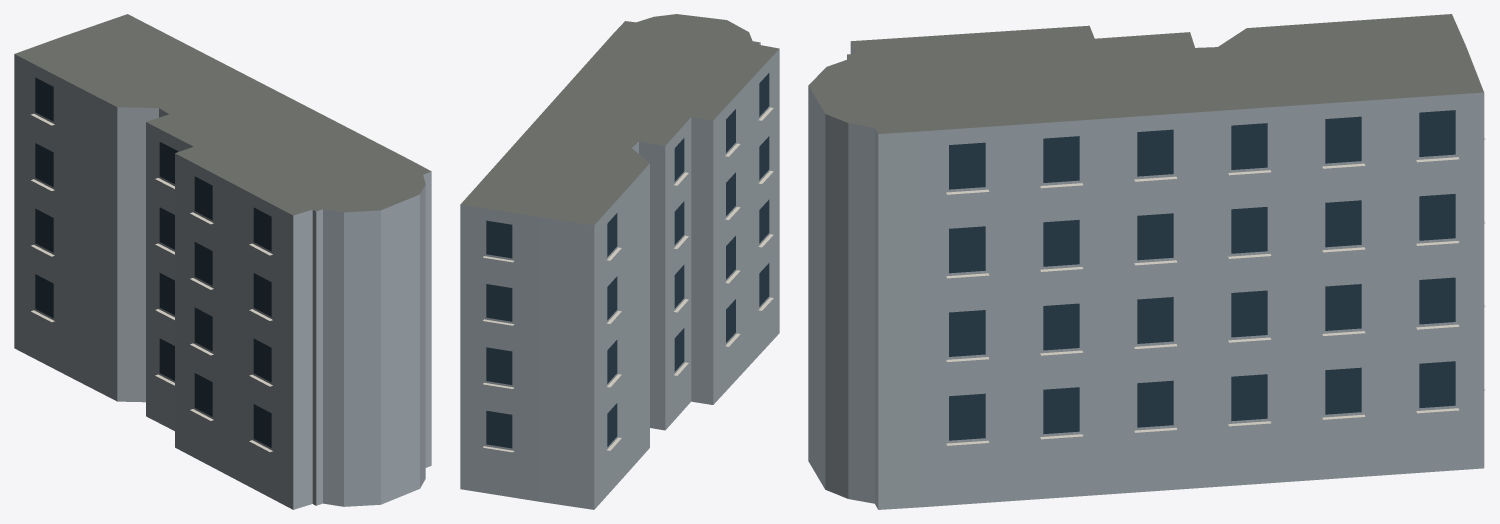
3 views of the same model, side by side, from view 1: azimuth 30°, elevation 25°; view 2: azimuth 150°, elevation 25°; view 3: azimuth 270°, elevation 25° (orthographic). The views are drawn at different scales.
Visible parts, largest first — view 1: Footprint 0, Inferred window bays, Window sills; view 2: Footprint 0, Inferred window bays, Window sills; view 3: Footprint 0, Inferred window bays, Window sills.
Boxes of the visible parts, x1,y1,x2,y2 form: Footprint 0: (14,14,431,509); Inferred window bays: (35,77,271,447); Window sills: (31,113,272,451); Footprint 0: (460,14,779,509); Inferred window bays: (486,73,769,448); Window sills: (483,107,773,452); Footprint 0: (808,14,1484,509); Inferred window bays: (949,110,1455,440); Window sills: (946,137,1485,445).
Bounding box in the file's own units: 9.56 × 13.93 × 22.75.
